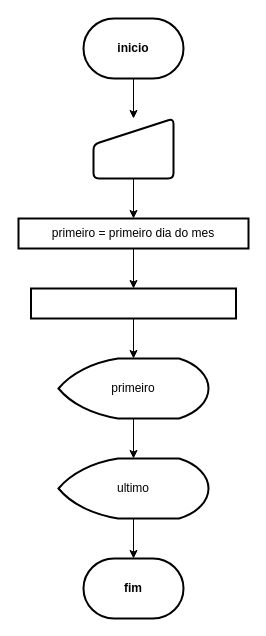
Image size: 266x636. Some labels were removed from this diagram. The shapes that lost their labels are listed below. From the top down, each one's centre as x and y in pixels, then its label:
the point at 133,148: data
the point at 133,303: ultimo = ultimo dia do mes
